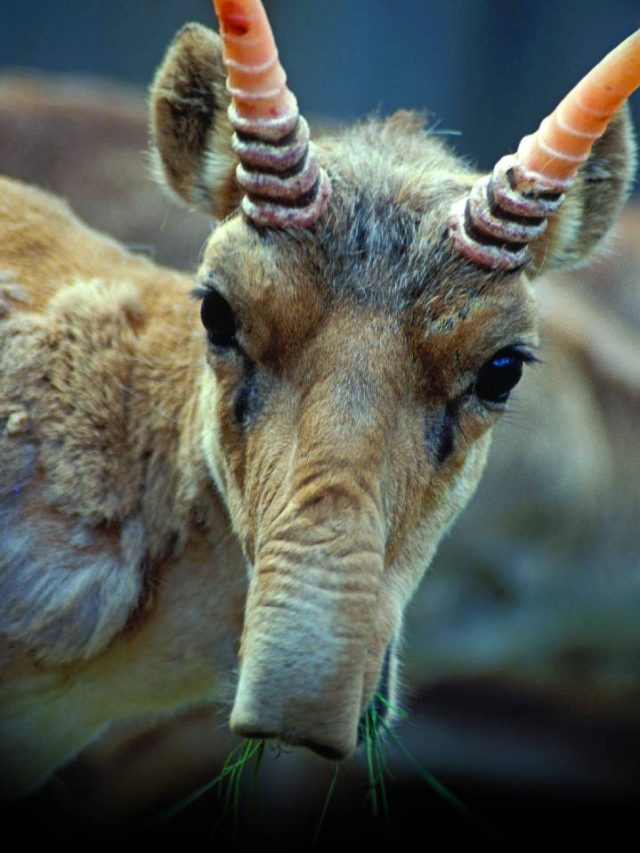saiga: (3, 4, 634, 808)
